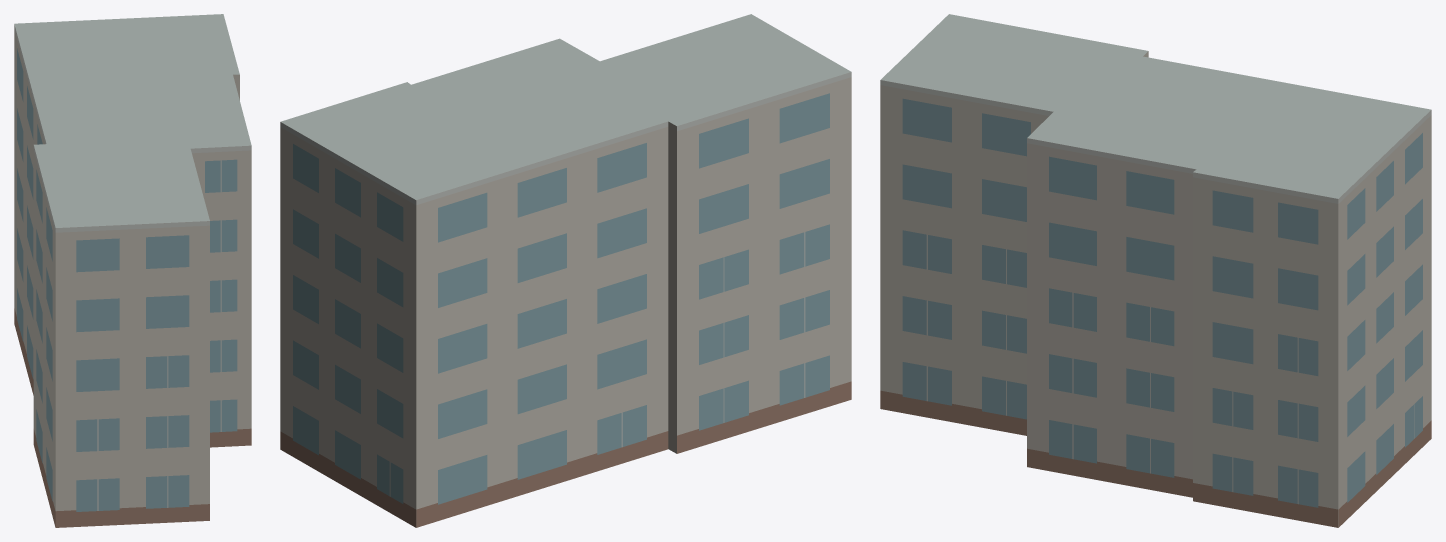
Rendered from survey-upis-32982937.glb.
3 views of the same model, side by side, from view 1: azimuth 30°, elevation 25°; view 2: azimuth 150°, elevation 25°; view 3: azimuth 270°, elevation 25° (orthographic). The views are drawn at different scales.
Visible parts, largest first — view 1: survey-upis-32982937.tmp; view 2: survey-upis-32982937.tmp; view 3: survey-upis-32982937.tmp.
Part boxes in pixels (<box>): survey-upis-32982937.tmp: <box>14,14,251,527</box>; survey-upis-32982937.tmp: <box>280,14,851,527</box>; survey-upis-32982937.tmp: <box>880,14,1431,527</box>.
Bounding box in the file's own units: 18.81 × 15.6 × 23.7.
